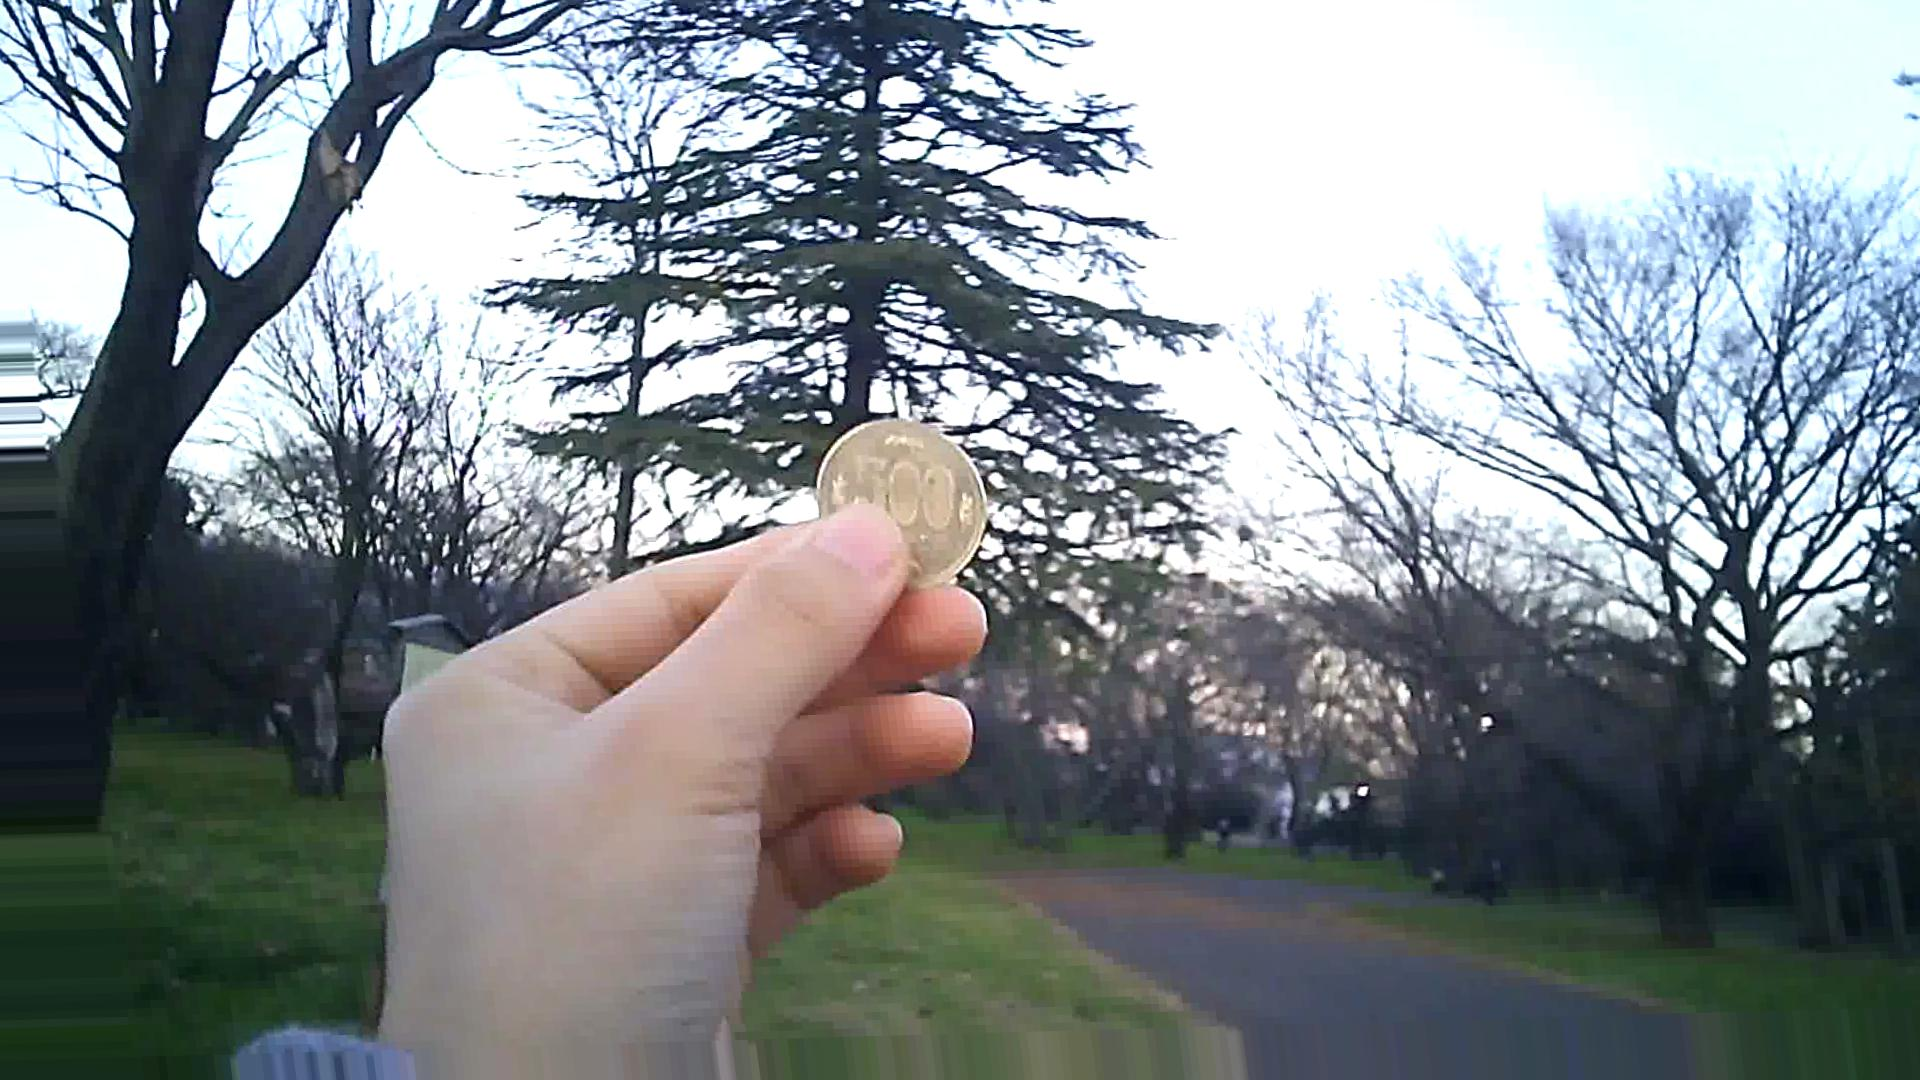500 Yen: (811, 398, 1000, 587)
